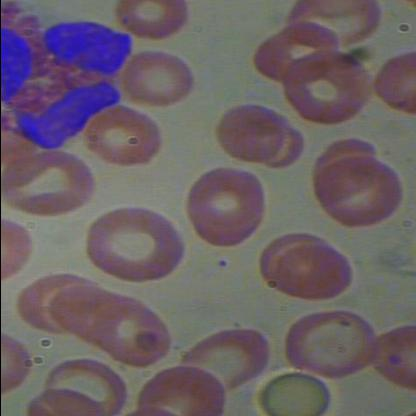RBC: (75, 201, 186, 288), (172, 324, 274, 396), (280, 49, 376, 123), (280, 308, 378, 380), (314, 155, 404, 233), (3, 148, 97, 220), (186, 166, 264, 238), (85, 104, 165, 174), (94, 304, 174, 370), (272, 240, 354, 301), (216, 100, 286, 164), (122, 51, 198, 107)
WBC: (1, 0, 137, 156)
